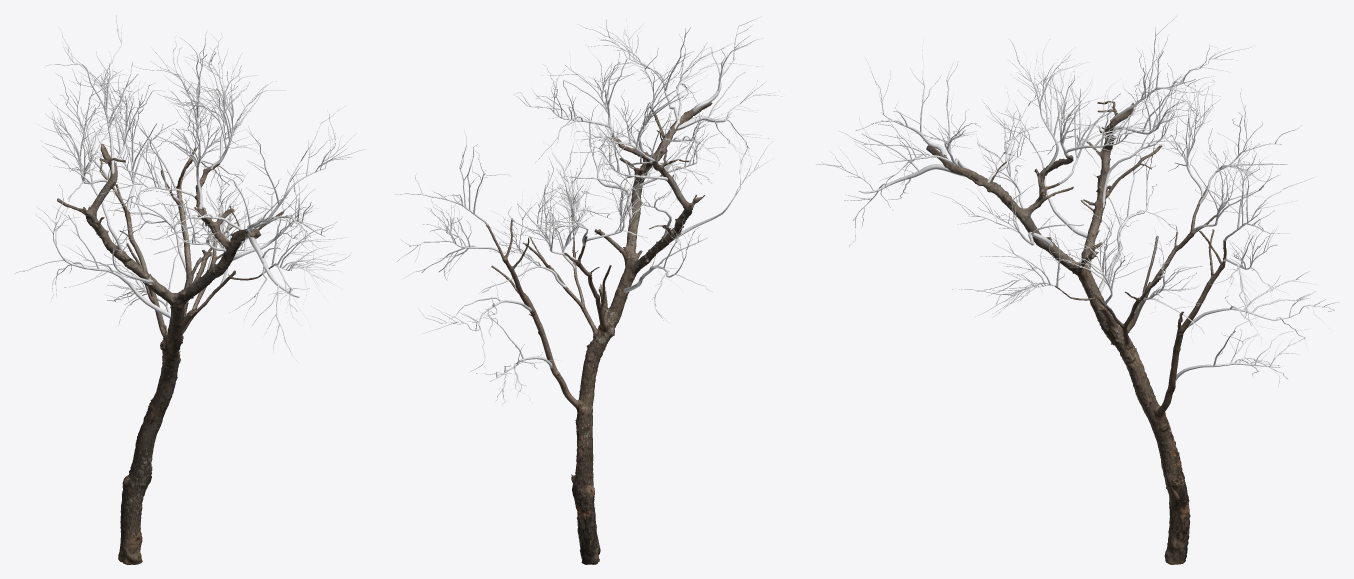
The model's file is tree_small_02_2k.fbx.
3 views of the same model, side by side, from view 1: azimuth 30°, elevation 25°; view 2: azimuth 150°, elevation 25°; view 3: azimuth 270°, elevation 25° (orthographic). The views are drawn at different scales.
Parts seen in each view (by area): view 1: tree_small_02_branches, tree_small_02; view 2: tree_small_02_branches, tree_small_02; view 3: tree_small_02_branches, tree_small_02.
Part boxes in pixels (x1,y1,x2,y2): tree_small_02_branches: (14,15,364,362); tree_small_02: (57,144,283,564); tree_small_02_branches: (395,14,784,405); tree_small_02: (486,102,712,564); tree_small_02_branches: (816,14,1339,386); tree_small_02: (926,101,1226,564).
Bounding box in the file's own units: 251 × 442 × 406.
2 materials, 1 textured.
